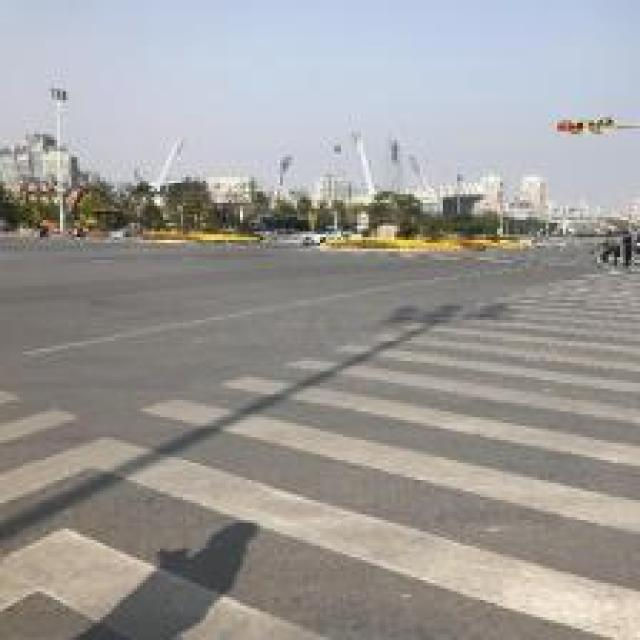crosswalk: (1, 320, 640, 640)
